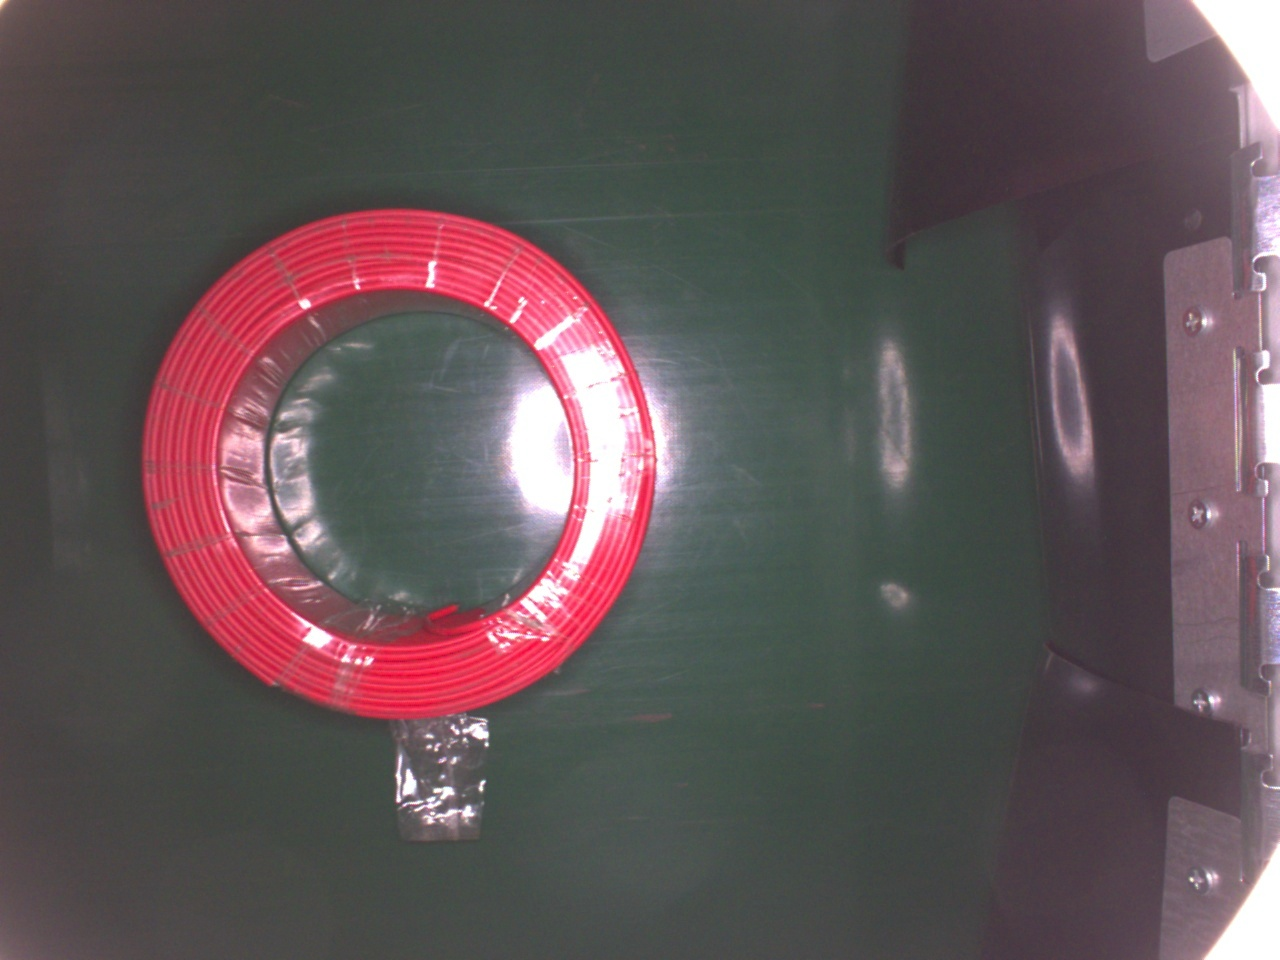red: (145, 207, 657, 728)
